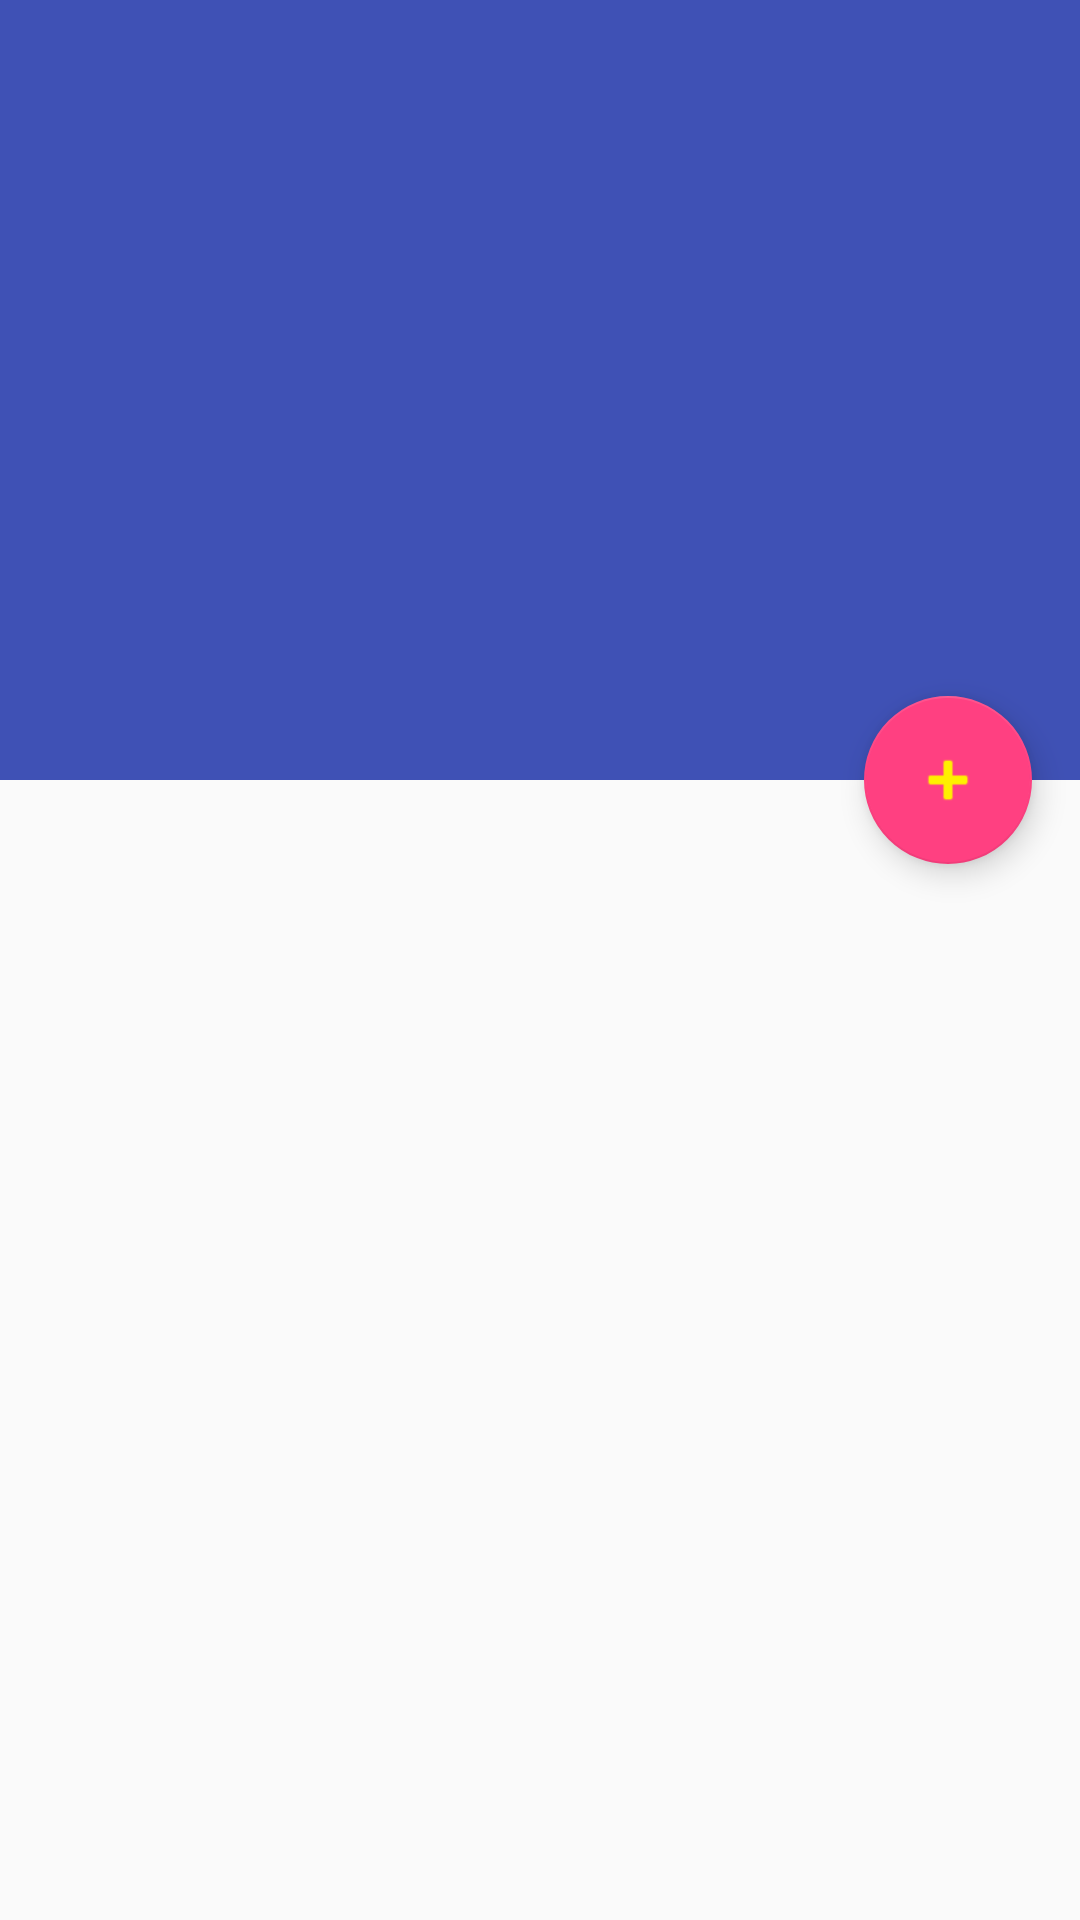

Point at icon controls on the screen. Image size 1080w x 1920h, points as [x,y].
add: [948,780]
